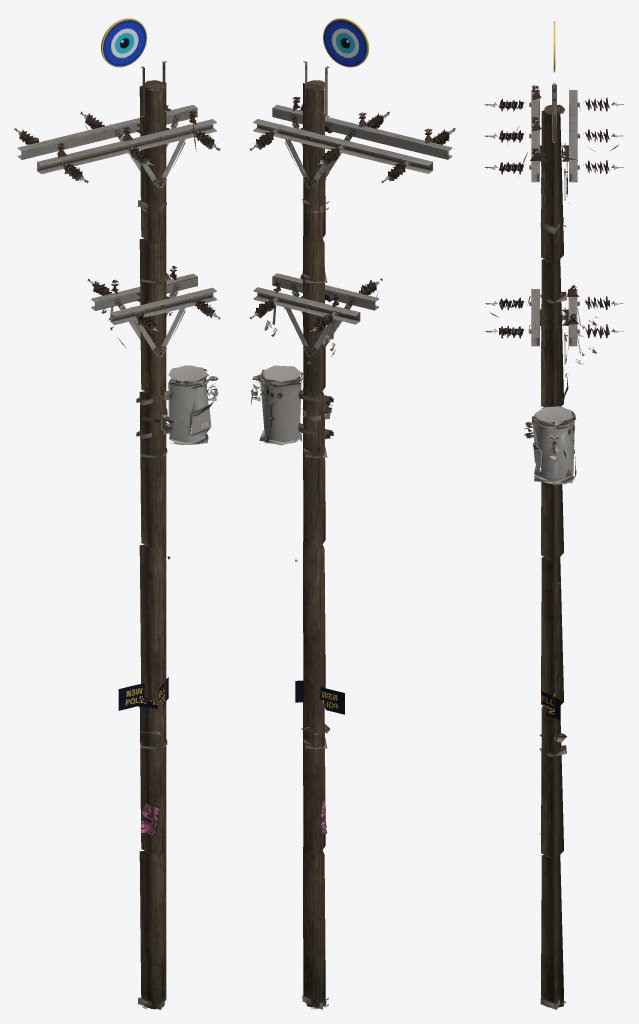
Rendered from nyb_gatsby_pole.glb.
3 views of the same model, side by side, from view 1: azimuth 30°, elevation 25°; view 2: azimuth 150°, elevation 25°; view 3: azimuth 270°, elevation 25° (orthographic). The views are drawn at different scales.
Visible parts, largest first — view 1: bolt_large.5083, add_nazar.png, stk_lbl_a21a3ebb02.png; view 2: bolt_large.5083, add_nazar.png, stk_lbl_a21a3ebb02.png; view 3: bolt_large.5083, stk_lbl_a21a3ebb02.png.
Part boxes in pixels (x1,y1,x2,y2): bolt_large.5083: [14, 61, 220, 1009]; add_nazar.png: [103, 20, 146, 66]; stk_lbl_a21a3ebb02.png: [118, 677, 168, 710]; bolt_large.5083: [249, 61, 455, 1009]; add_nazar.png: [324, 20, 366, 66]; stk_lbl_a21a3ebb02.png: [295, 680, 344, 714]; bolt_large.5083: [484, 83, 623, 1009]; stk_lbl_a21a3ebb02.png: [541, 689, 560, 720].
Bounding box in the file's own units: 1.29 × 6.47 × 0.8524.
Materials: 6 (5 with a texture image).
